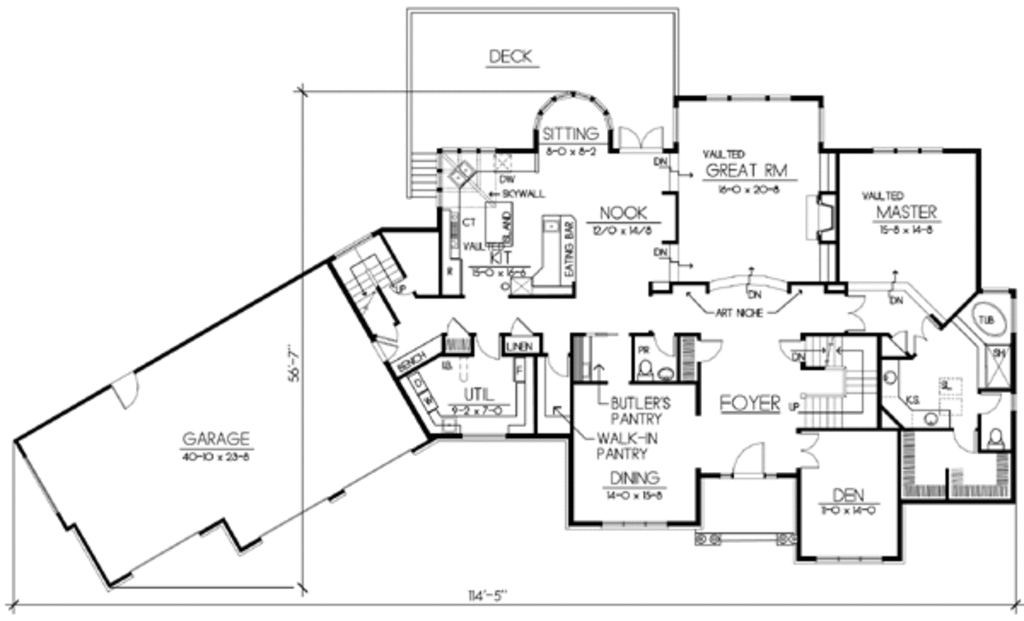door: (105, 369, 153, 416), (614, 123, 672, 153), (730, 439, 770, 479), (909, 312, 940, 362), (796, 426, 828, 474), (845, 289, 868, 338), (503, 312, 539, 341), (475, 334, 503, 366), (700, 339, 726, 370), (953, 426, 978, 457), (543, 351, 571, 378), (651, 329, 677, 358), (976, 395, 1007, 418), (780, 332, 800, 362), (446, 315, 470, 338), (893, 328, 912, 356)
kitchen_bar: (478, 189, 533, 252)
large_sink: (985, 425, 1014, 454), (636, 353, 659, 384)
small_sink: (911, 407, 949, 431), (883, 362, 901, 401), (653, 367, 681, 385)
stairs: (323, 231, 412, 324), (797, 334, 884, 429)
window: (709, 89, 791, 108), (811, 551, 887, 569), (603, 516, 674, 529), (870, 143, 944, 155)
